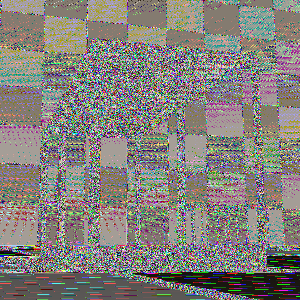Rack: (36, 36, 269, 273)
